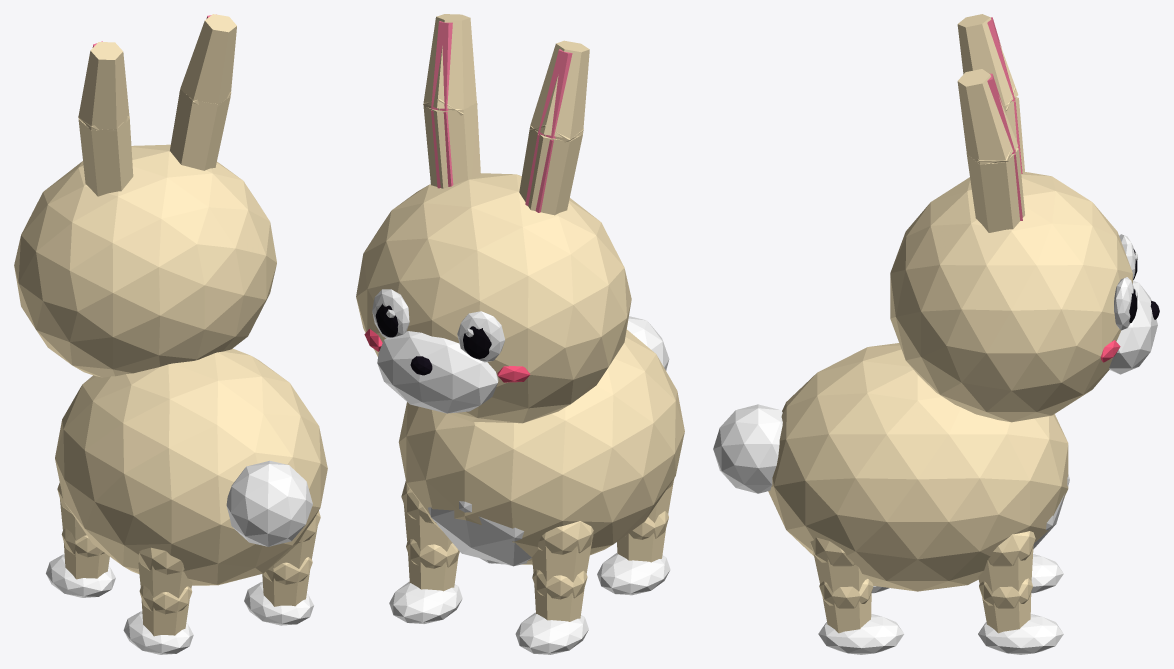
File: vanilla_bunny.obj
The picture shows the model from 3 angles, left to right: view 1: azimuth 30°, elevation 25°; view 2: azimuth 150°, elevation 25°; view 3: azimuth 270°, elevation 25°; orthographic projection. The views are drawn at different scales.
Parts seen in each view (by area): view 1: Head_2_m3, Body_1_m1, Body_1_m2, EarR2_14_m27, EarL2_12_m23, EarR1_13_m25, EarL1_11_m21, Leg3Lo_8_m16, Leg3Up_7_m15, Leg4Lo_10_m19, Leg1Lo_4_m10, Leg4Lo_10_m20 (+4 smaller); view 2: Head_2_m3, Body_1_m1, Head_2_m4, Body_1_m2, EarR1_13_m25, EarL1_11_m21, EarL2_12_m23, EarR2_14_m27, Leg1Up_3_m9, Leg3Lo_8_m17, Leg2Lo_6_m14, Leg1Lo_4_m11 (+10 smaller); view 3: Body_1_m1, Head_2_m3, Body_1_m2, EarR2_14_m27, EarR1_13_m25, Head_2_m4, EarL2_12_m23, Leg2Up_5_m12, Leg2Lo_6_m14, Leg4Lo_10_m20, Leg4Lo_10_m19, Leg2Lo_6_m13 (+2 smaller).
Part boxes in pixels (x1,y1,x2,y2): Head_2_m3: [14, 144, 276, 377]; Body_1_m1: [55, 348, 327, 585]; Body_1_m2: [226, 460, 312, 546]; EarR2_14_m27: [179, 14, 236, 106]; EarL2_12_m23: [78, 42, 129, 131]; EarR1_13_m25: [170, 89, 230, 170]; EarL1_11_m21: [78, 119, 133, 196]; Leg3Lo_8_m16: [139, 585, 192, 636]; Leg3Up_7_m15: [138, 547, 192, 598]; Leg4Lo_10_m19: [262, 557, 312, 606]; Leg1Lo_4_m10: [61, 528, 109, 579]; Leg4Lo_10_m20: [244, 582, 313, 625]; Head_2_m3: [356, 173, 631, 423]; Body_1_m1: [398, 329, 684, 564]; Head_2_m4: [372, 289, 504, 413]; Body_1_m2: [428, 316, 669, 566]; EarR1_13_m25: [423, 102, 480, 188]; EarL1_11_m21: [519, 126, 582, 215]; EarL2_12_m23: [529, 40, 589, 142]; EarR2_14_m27: [423, 14, 476, 115]; Leg1Up_3_m9: [532, 521, 593, 582]; Leg3Lo_8_m17: [597, 553, 670, 595]; Leg2Lo_6_m14: [389, 581, 462, 623]; Leg1Lo_4_m11: [515, 612, 588, 654]; Body_1_m1: [768, 343, 1068, 591]; Head_2_m3: [890, 172, 1132, 422]; Body_1_m2: [713, 404, 1069, 549]; EarR2_14_m27: [957, 69, 1018, 164]; EarR1_13_m25: [966, 147, 1024, 232]; Head_2_m4: [1109, 234, 1157, 374]; EarL2_12_m23: [957, 14, 1018, 110]; Leg2Up_5_m12: [978, 531, 1035, 592]; Leg2Lo_6_m14: [978, 614, 1063, 654]; Leg4Lo_10_m20: [818, 614, 903, 654]; Leg4Lo_10_m19: [819, 579, 873, 633]; Leg2Lo_6_m13: [979, 578, 1032, 633].
Bounding box in the file's own units: 1.45 × 3.37 × 2.38.
